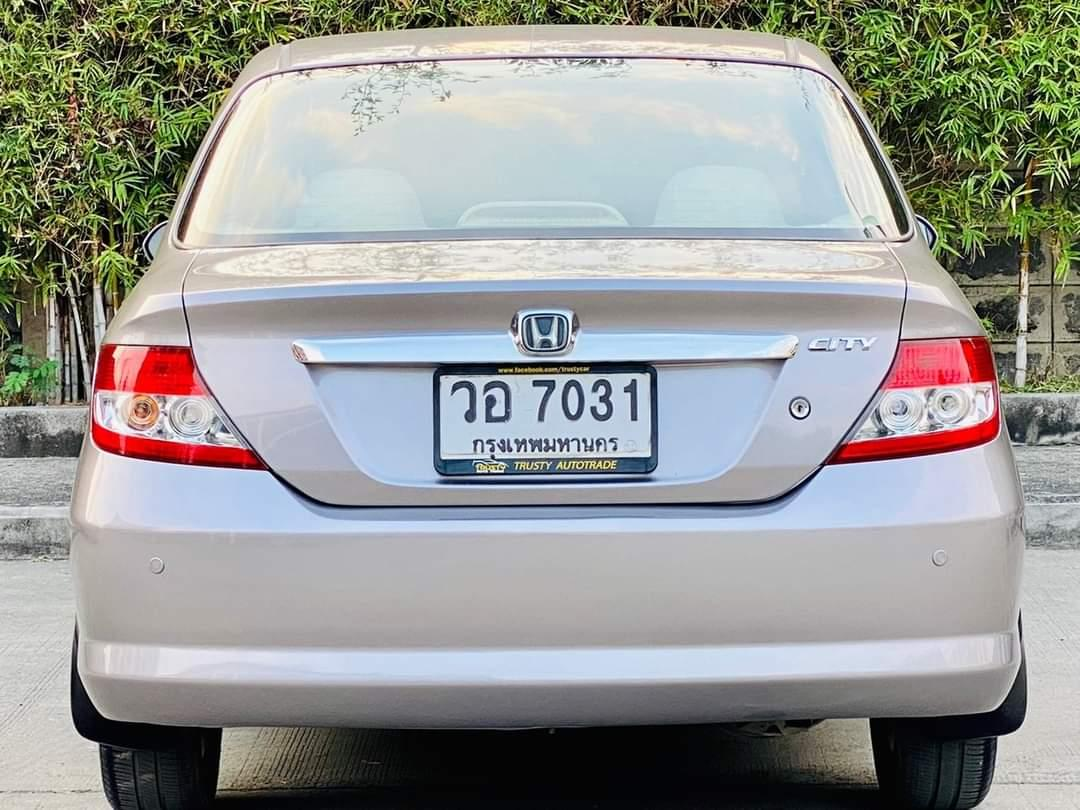license-plate: (432, 361, 659, 479)
